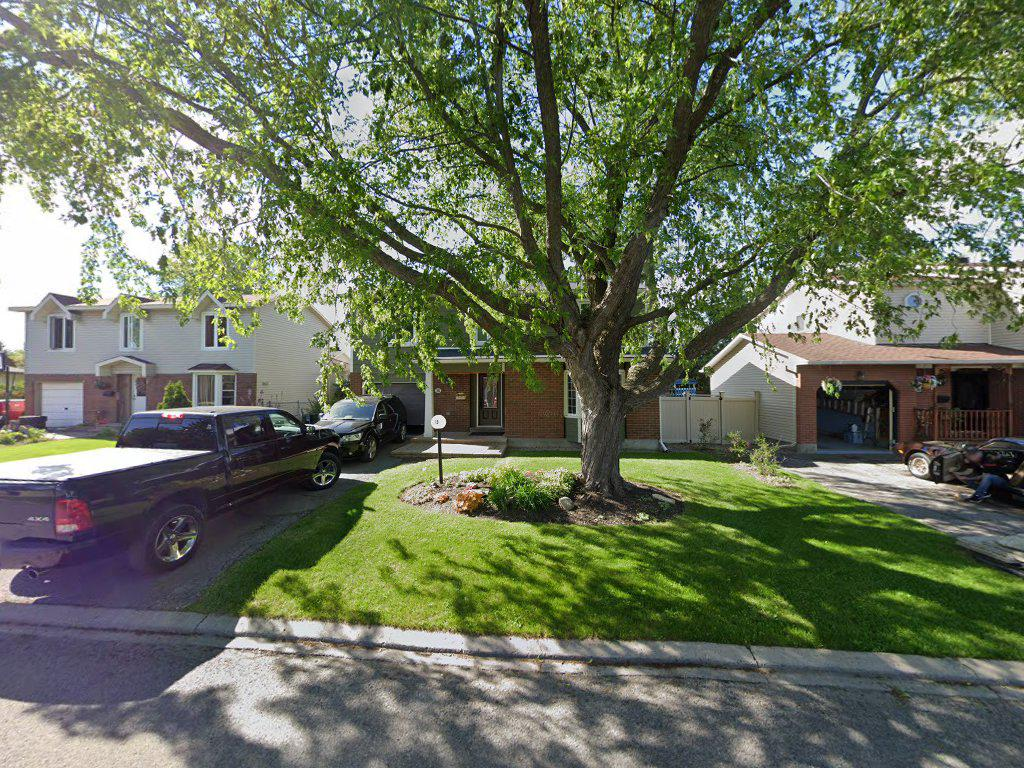trunk: (551, 277, 646, 533)
